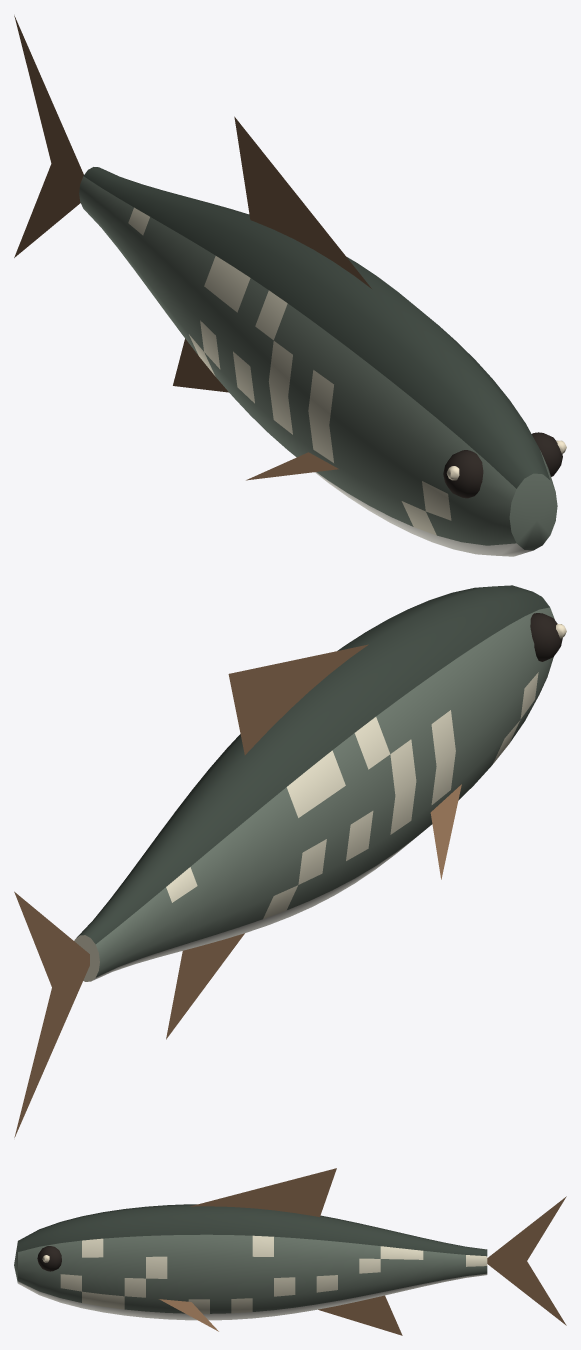
The model's file is lake_trout.fbx.
3 views of the same model, one above another, from view 1: azimuth 30°, elevation 25°; view 2: azimuth 150°, elevation 25°; view 3: azimuth 270°, elevation 25° (orthographic). The views are drawn at different scales.
Parts seen in each view (by area): view 1: Fish_lake_trout_EXP; view 2: Fish_lake_trout_EXP; view 3: Fish_lake_trout_EXP.
Boxes of the visible parts, x1=… form: Fish_lake_trout_EXP: x1=14, y1=15, x2=566, y2=556; Fish_lake_trout_EXP: x1=14, y1=585, x2=566, y2=1137; Fish_lake_trout_EXP: x1=14, y1=1168, x2=566, y2=1335.
Size of the model in its own units: 0.169 by 0.2565 by 0.7659.
